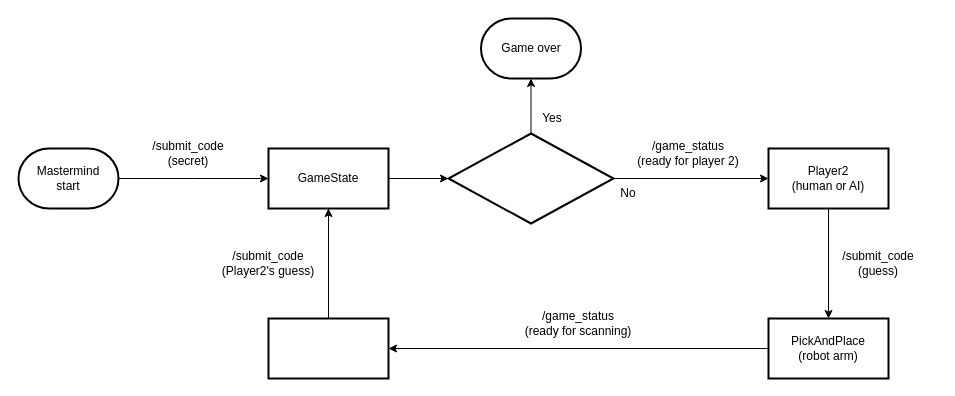
Some shapes in this 955 by 396 pixel diagram are drawn without their labels. Here are the shapes that lost their labels. From the top down, the centre of each, then its label:
the point at 530,178: Code guessed or max round reached?
the point at 328,348: Vision (RGB camera)
